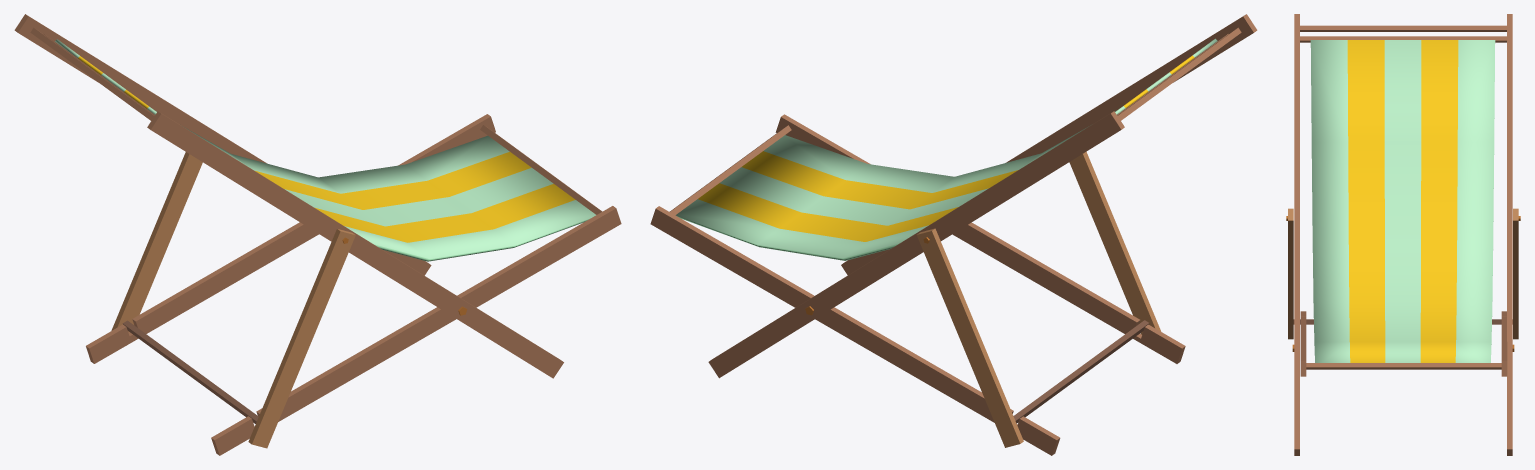
File: Chair_06.glb
3 views of the same model, side by side, from view 1: azimuth 30°, elevation 25°; view 2: azimuth 150°, elevation 25°; view 3: azimuth 270°, elevation 25° (orthographic). The views are drawn at different scales.
Parts seen in each view (by area): view 1: Chair_06; view 2: Chair_06; view 3: Chair_06.
Part boxes in pixels (bbox=[...]): Chair_06: bbox=[14, 14, 621, 455]; Chair_06: bbox=[650, 14, 1257, 455]; Chair_06: bbox=[1286, 14, 1520, 455].
Size of what is drawn, in the model's own units: 1.81 by 1.32 by 0.9674.
1 material, 1 textured.
